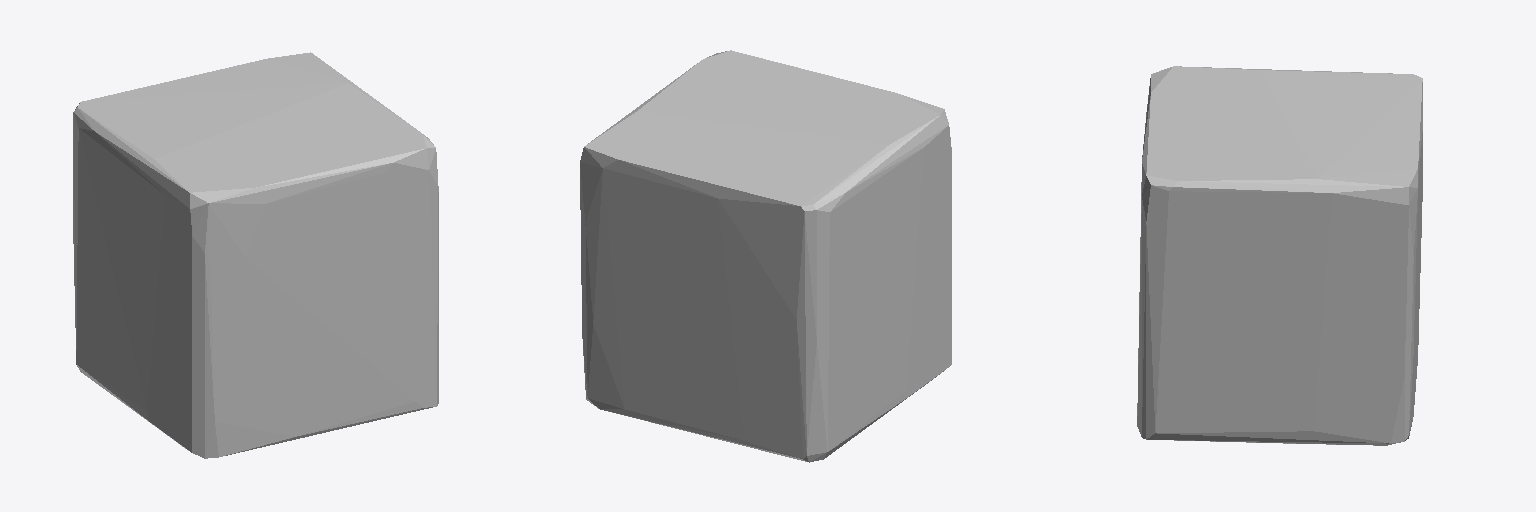
The model's file is Granimals_20_Wooden_ABC_Blocks_Wagon_85VdSftGsLi_collision.obj.
The picture shows the model from 3 angles: view 1: azimuth 30°, elevation 25°; view 2: azimuth 150°, elevation 25°; view 3: azimuth 270°, elevation 25°; orthographic projection.
Visible parts, largest first — view 1: convex_0; view 2: convex_0; view 3: convex_0.
Part boxes in pixels (x1,y1,x2,y2): convex_0: (73,52,438,458); convex_0: (580,50,951,462); convex_0: (1137,66,1422,445).
Bounding box in the file's own units: 0.08 × 0.0813 × 0.08.